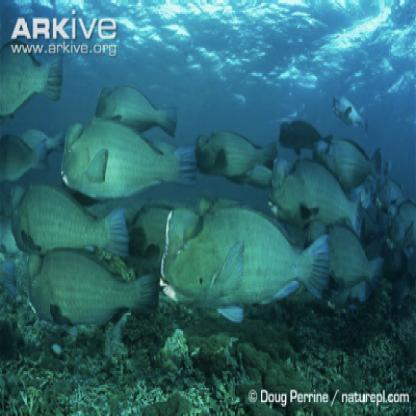Scaridae -Parrotfishes-: (159, 207, 328, 327), (57, 108, 198, 200), (10, 174, 132, 267), (23, 251, 158, 335), (270, 145, 359, 226), (191, 124, 282, 181)
